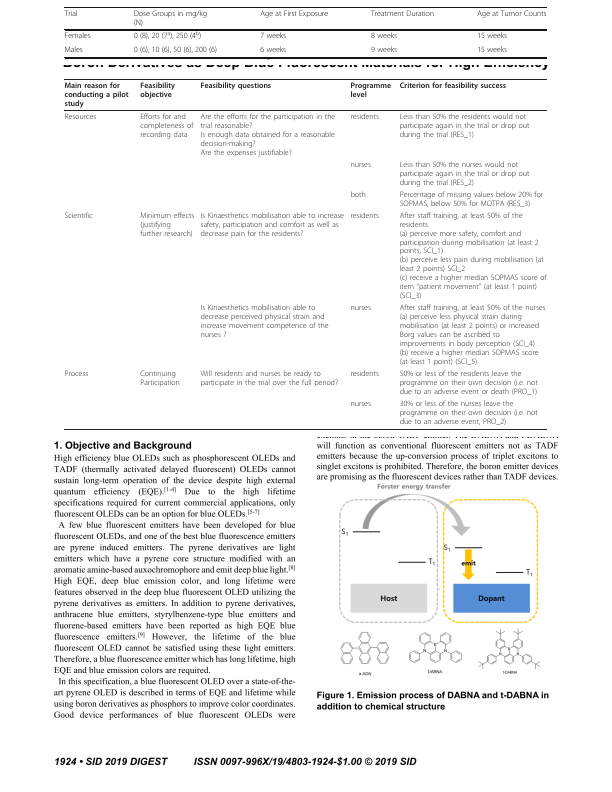borderless: (63, 77, 547, 429), (63, 6, 546, 57)
cell: (399, 211, 547, 301), (399, 303, 546, 367), (199, 112, 336, 157), (199, 303, 329, 340), (199, 211, 345, 238), (399, 369, 539, 397), (399, 399, 539, 427), (399, 112, 530, 140), (399, 160, 530, 187), (199, 369, 339, 388), (399, 190, 544, 208), (64, 81, 129, 108), (139, 112, 194, 140), (139, 211, 195, 238), (133, 10, 208, 28), (399, 81, 507, 90), (133, 46, 218, 56), (133, 30, 202, 42), (139, 369, 181, 388), (349, 81, 392, 99), (139, 81, 176, 99), (199, 81, 272, 90), (476, 10, 547, 19), (259, 10, 329, 19), (370, 10, 435, 19), (64, 112, 97, 122), (476, 32, 508, 42), (476, 46, 508, 56), (349, 112, 380, 122), (349, 369, 380, 379), (259, 32, 287, 42), (370, 32, 398, 42), (259, 46, 287, 56), (370, 46, 398, 56), (63, 211, 94, 220), (349, 211, 380, 220), (64, 32, 91, 42), (63, 369, 89, 379), (349, 303, 372, 313), (349, 399, 372, 409), (63, 46, 84, 56), (349, 160, 372, 169), (349, 190, 367, 199), (64, 10, 78, 19)
